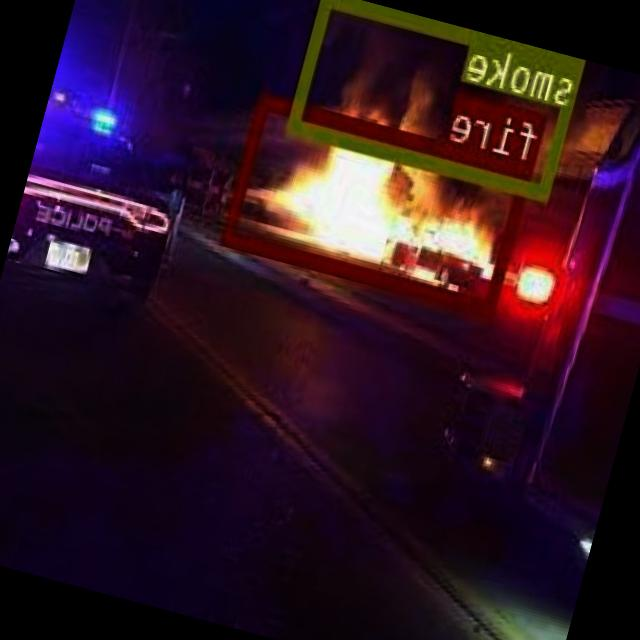fire: (224, 90, 535, 313)
smoke: (288, 0, 587, 197)
